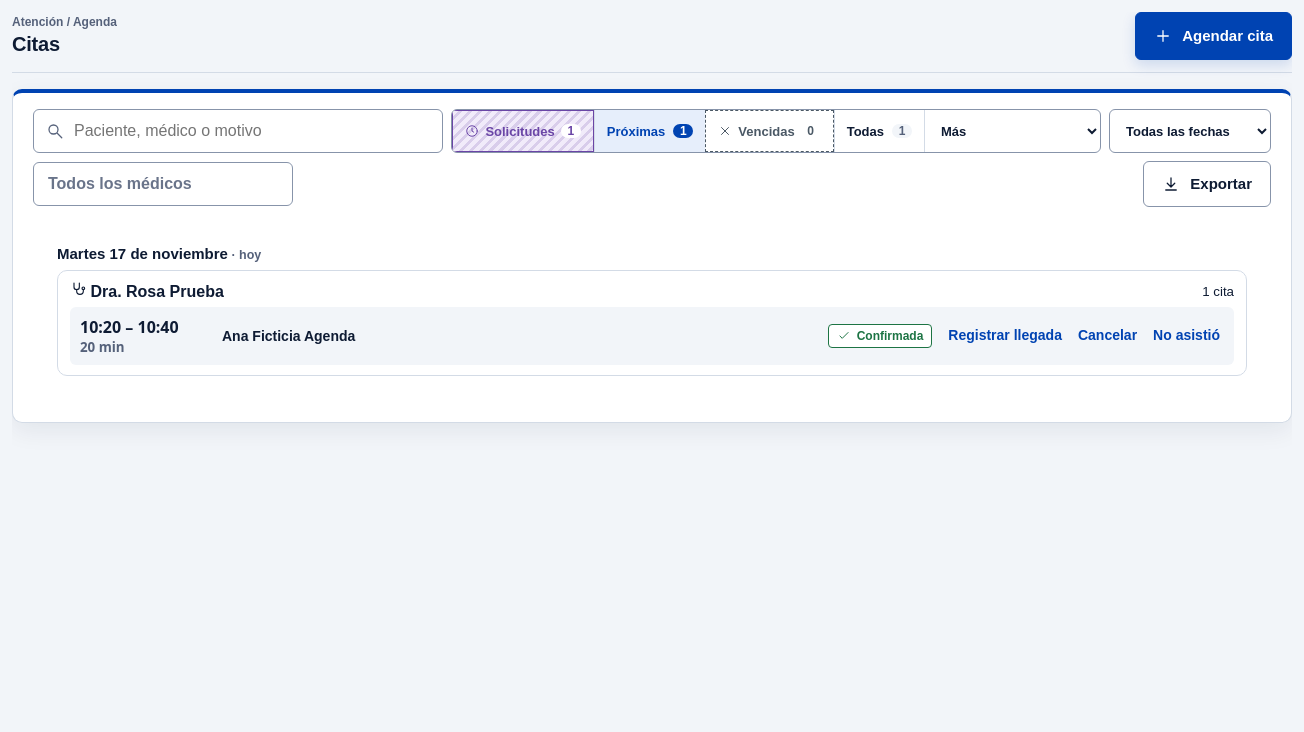
Test case: A3 · «No asistió» con deshacer (D-3) › a 409 (the appointment changed meanwhile) says so in plain words
Click the button with aria-label "No asistió · Ana Ficticia Agenda": (1187, 336) [1149,315,1224,357]
Wait 15100 ms
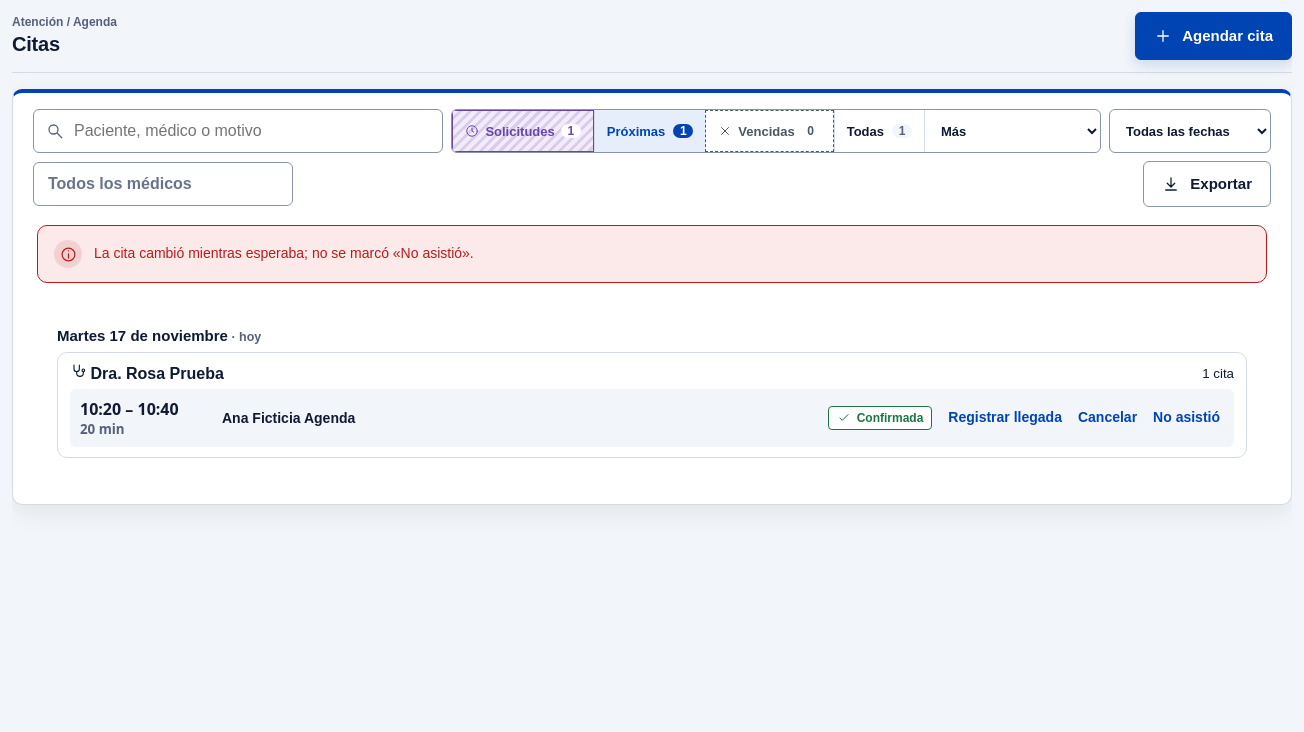
Expected: the text "La cita cambió mientras esperaba; no se marcó «No asistió»." is shown, [94,240,474,265]
